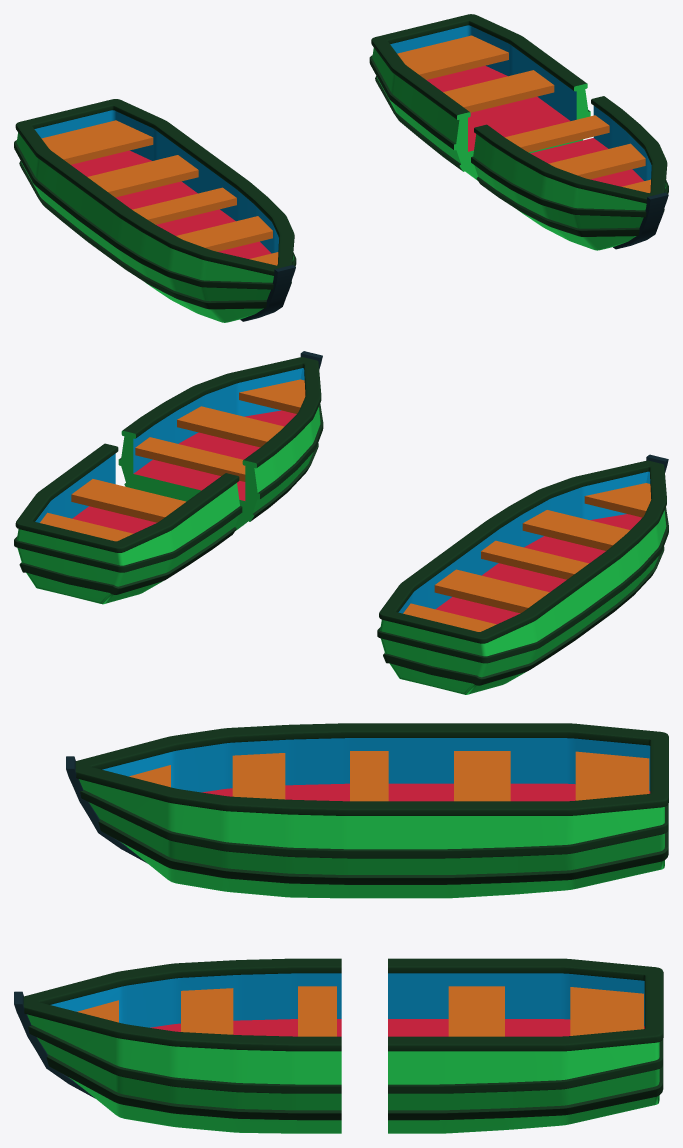
Rendered from Rowboats.fbx.
3 views of the same model, one above another, from view 1: azimuth 30°, elevation 25°; view 2: azimuth 150°, elevation 25°; view 3: azimuth 270°, elevation 25° (orthographic). The views are drawn at different scales.
Parts seen in each view (by area): view 1: Row_Boats; view 2: Row_Boats; view 3: Row_Boats.
Part boxes in pixels (left/top/right/bottom): Row_Boats: left=14, top=14, right=668, bottom=322; Row_Boats: left=14, top=351, right=668, bottom=694; Row_Boats: left=14, top=723, right=668, bottom=1133.
Bounding box in the file's own units: 7.98 × 1.34 × 6.76.
